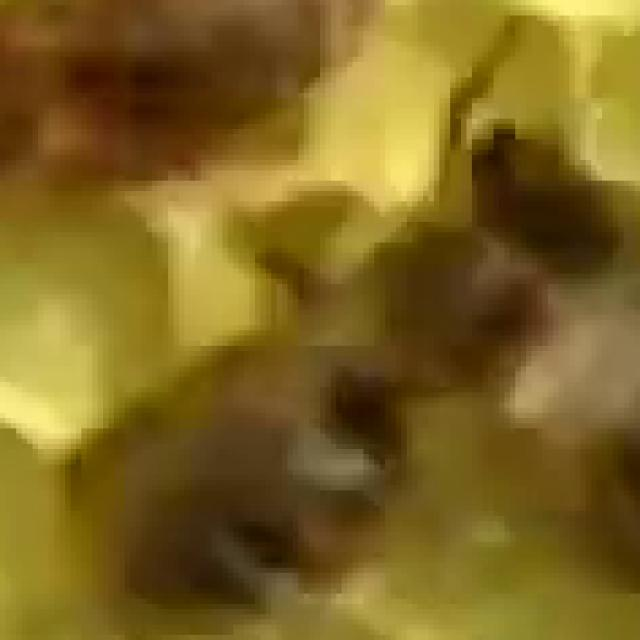honeybee: (134, 135, 613, 612)
